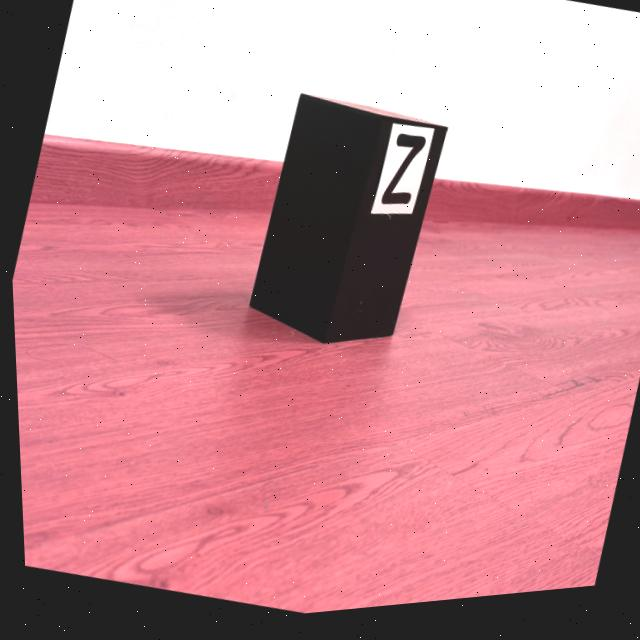Z: (378, 141, 423, 212)
